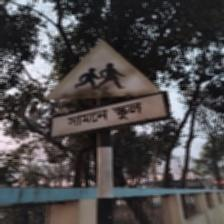School-in-front: (45, 37, 170, 140)
